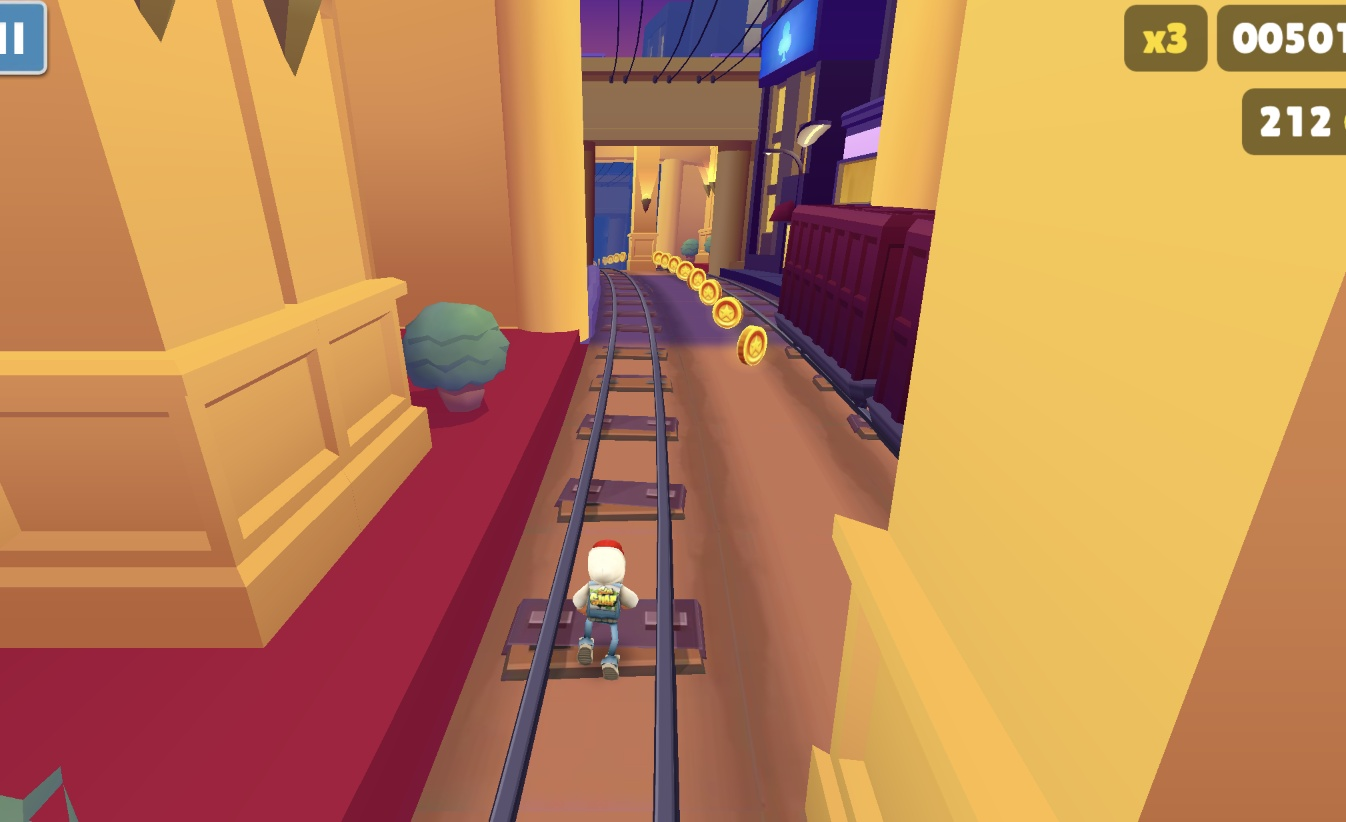pillar: (798, 0, 1346, 822), (626, 145, 664, 273)
train: (774, 202, 938, 452)
